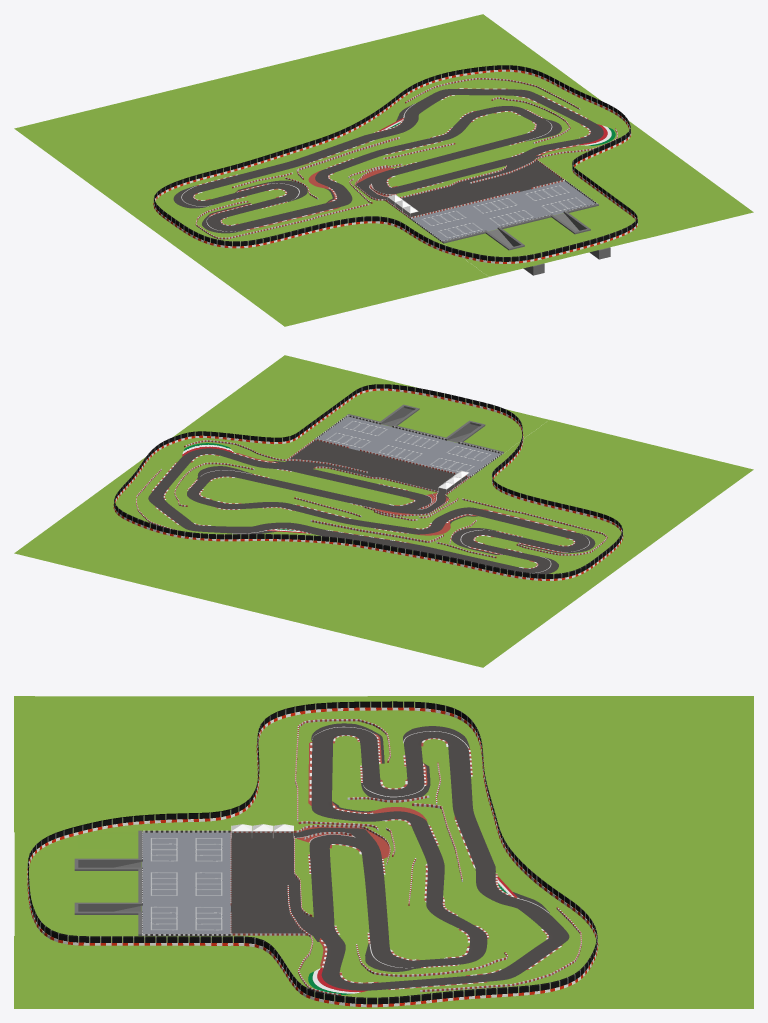
Rendered from track-test.glb.
3 views of the same model, one above another, from view 1: azimuth 30°, elevation 25°; view 2: azimuth 150°, elevation 25°; view 3: azimuth 270°, elevation 25° (orthographic). The views are drawn at different scales.
Parts seen in each view (by area): view 1: Cube_standard_material_0; view 2: Cube_standard_material_0; view 3: Cube_standard_material_0.
Part boxes in pixels (box(x1,y1,x2,y2)): Cube_standard_material_0: box(14, 14, 753, 326); Cube_standard_material_0: box(14, 355, 753, 667); Cube_standard_material_0: box(14, 696, 753, 1008).
Size of the model in its own units: 130 by 4.75 by 130.
6 materials, 5 textured.
